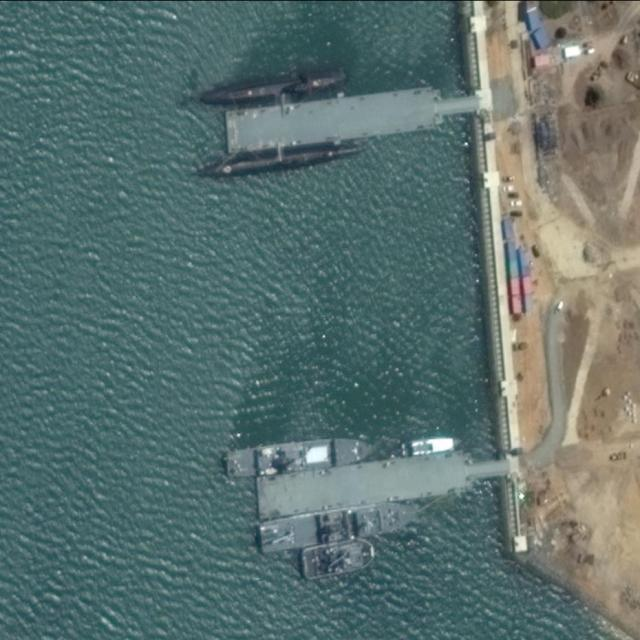Landing: (222, 431, 382, 480)
Other Warship: (258, 498, 420, 552), (298, 537, 378, 579)
Submarine: (195, 138, 367, 184), (195, 64, 352, 114)
